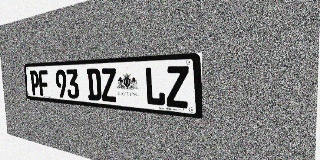3: (66, 69, 79, 99)
9: (55, 69, 67, 98)
D: (86, 68, 102, 101)
F: (38, 70, 49, 96)
L: (144, 66, 166, 106)
P: (30, 70, 40, 96)
Z: (165, 66, 189, 109), (101, 68, 117, 102)
